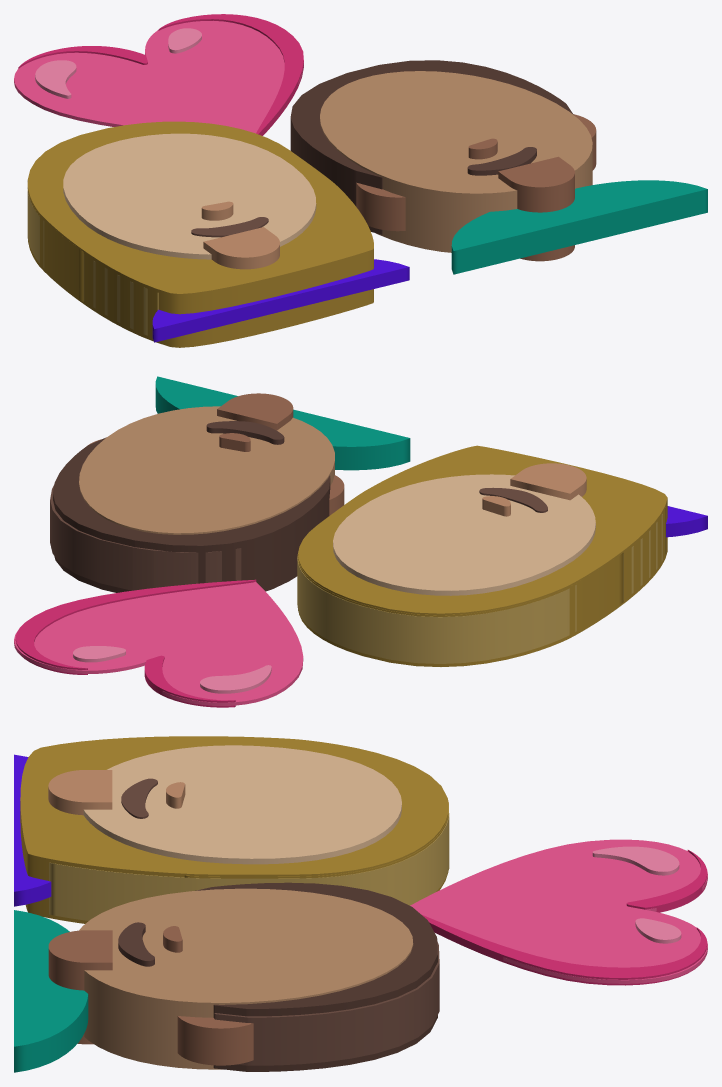
File: emoji_u1f469_1f3fc_200d_2764_200d_1f468_1f3fd.glb
3 views of the same model, one above another, from view 1: azimuth 30°, elevation 25°; view 2: azimuth 150°, elevation 25°; view 3: azimuth 270°, elevation 25° (orthographic). The views are drawn at different scales.
Parts seen in each view (by area): view 1: emoji_u1f469_1f3fc_200d_2764_200d_1f468_1f3fd; view 2: emoji_u1f469_1f3fc_200d_2764_200d_1f468_1f3fd; view 3: emoji_u1f469_1f3fc_200d_2764_200d_1f468_1f3fd.
Boxes of the visible parts, x1,y1,x2,y2 form: emoji_u1f469_1f3fc_200d_2764_200d_1f468_1f3fd: [14, 14, 707, 347]; emoji_u1f469_1f3fc_200d_2764_200d_1f468_1f3fd: [14, 376, 707, 707]; emoji_u1f469_1f3fc_200d_2764_200d_1f468_1f3fd: [14, 736, 707, 1072].
Bounding box in the file's own units: 0.0345 × 0.005 × 0.0339.
